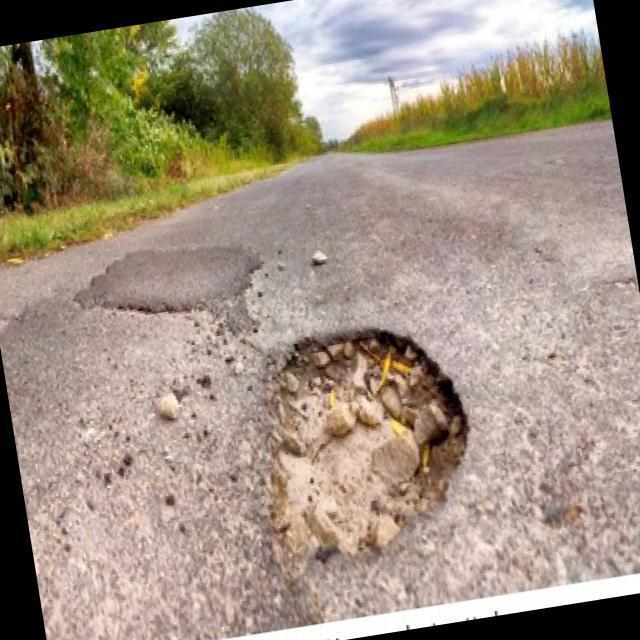Pothole: (271, 330, 468, 578)
